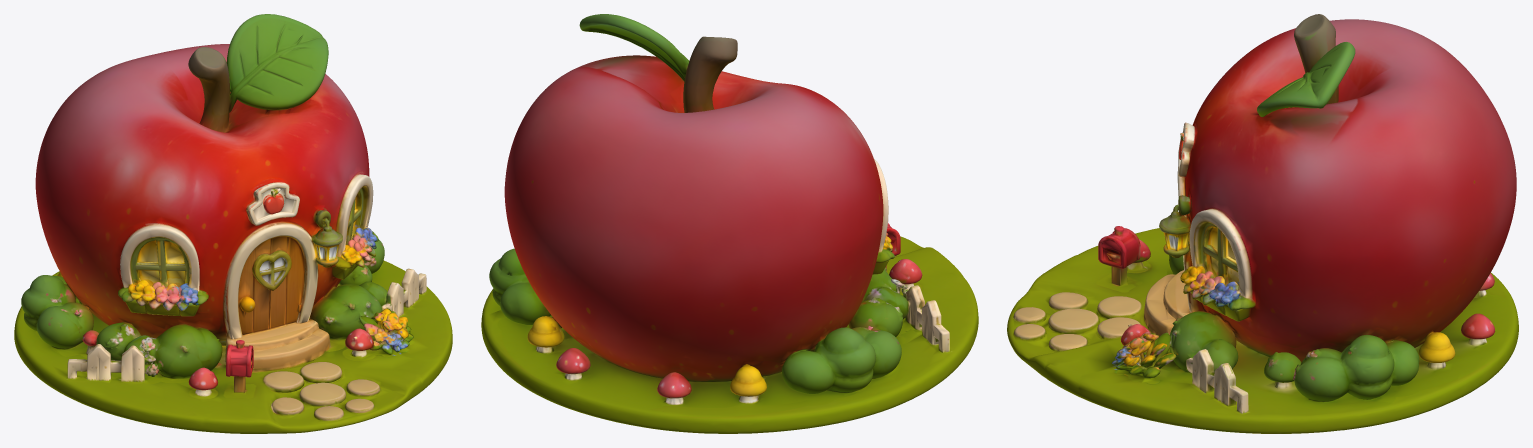
File: apple.glb
3 views of the same model, side by side, from view 1: azimuth 30°, elevation 25°; view 2: azimuth 150°, elevation 25°; view 3: azimuth 270°, elevation 25° (orthographic). The views are drawn at different scales.
Visible parts, largest first — view 1: node_0; view 2: node_0; view 3: node_0.
Part boxes in pixels (x1=…): node_0: x1=14, y1=14, x2=452, y2=433; node_0: x1=481, y1=14, x2=978, y2=433; node_0: x1=1007, y1=14, x2=1518, y2=433.
Size of the model in its own units: 0.943 by 0.6816 by 0.9933.
1 material, 1 textured.
